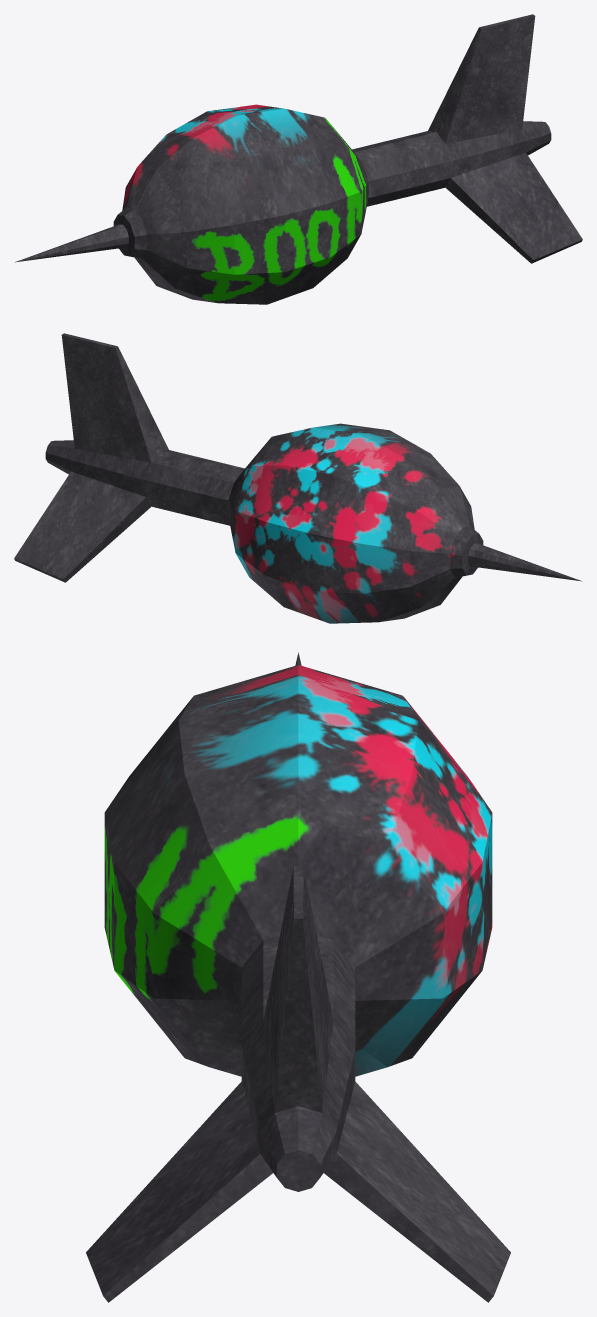
The model's file is Seeker_container.fbx.
3 views of the same model, one above another, from view 1: azimuth 30°, elevation 25°; view 2: azimuth 150°, elevation 25°; view 3: azimuth 270°, elevation 25° (orthographic). The views are drawn at different scales.
Parts seen in each view (by area): view 1: Dart; view 2: Dart; view 3: Dart.
Boxes of the visible parts, x1,y1,x2,y2 form: Dart: (15, 14, 582, 304); Dart: (14, 333, 581, 623); Dart: (86, 652, 510, 1302).
Size of the model in its own units: 28.67 by 10.97 by 9.93.
